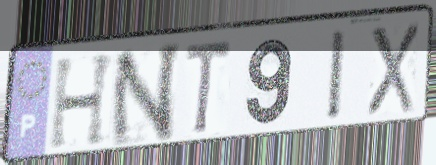9: (242, 34, 295, 130)
H: (47, 50, 119, 153)
I: (326, 27, 348, 124)
N: (108, 39, 184, 150)
T: (182, 37, 235, 140)
X: (364, 21, 421, 118)
